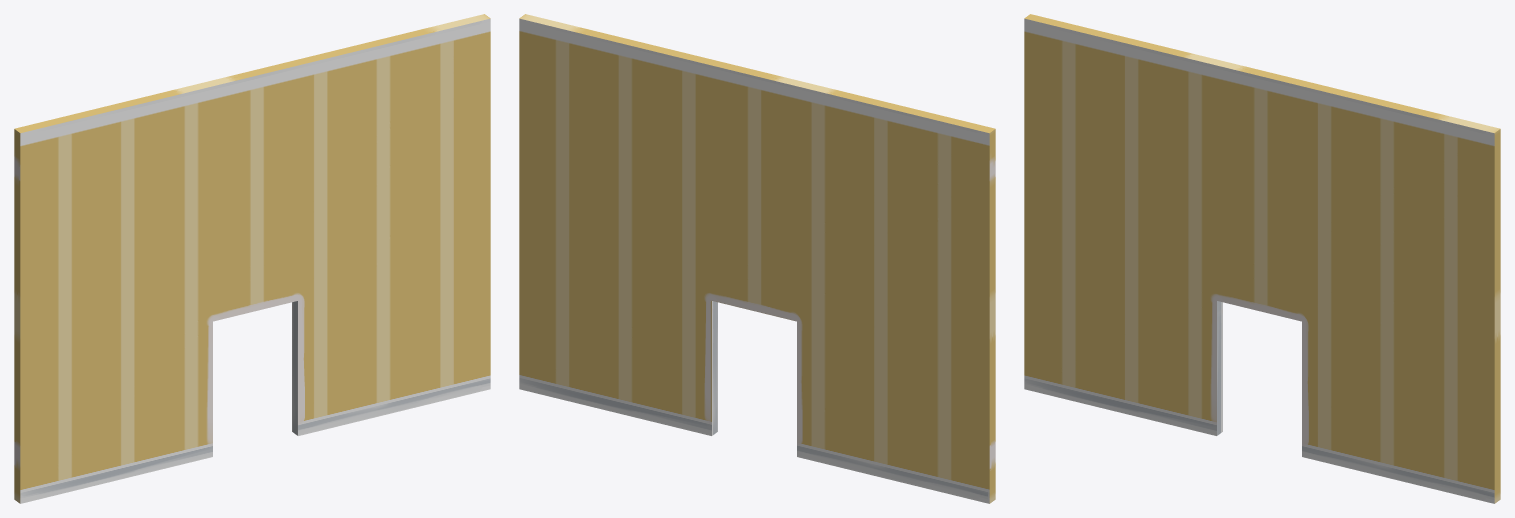
The model's file is KitchenWallsDoor.fbx.
3 renders of one model, left to right at view 1: azimuth 30°, elevation 25°; view 2: azimuth 150°, elevation 25°; view 3: azimuth 330°, elevation 25°, orthographic.
Visible parts, largest first — view 1: KitchenWallsDoor; view 2: KitchenWallsDoor; view 3: KitchenWallsDoor.
Boxes of the visible parts, x1,y1,x2,y2 form: KitchenWallsDoor: [14, 14, 490, 503]; KitchenWallsDoor: [519, 14, 995, 503]; KitchenWallsDoor: [1024, 14, 1500, 503].
Size of the model in its own units: 633 by 476 by 14.41.
Materials: 1 (1 with a texture image).
